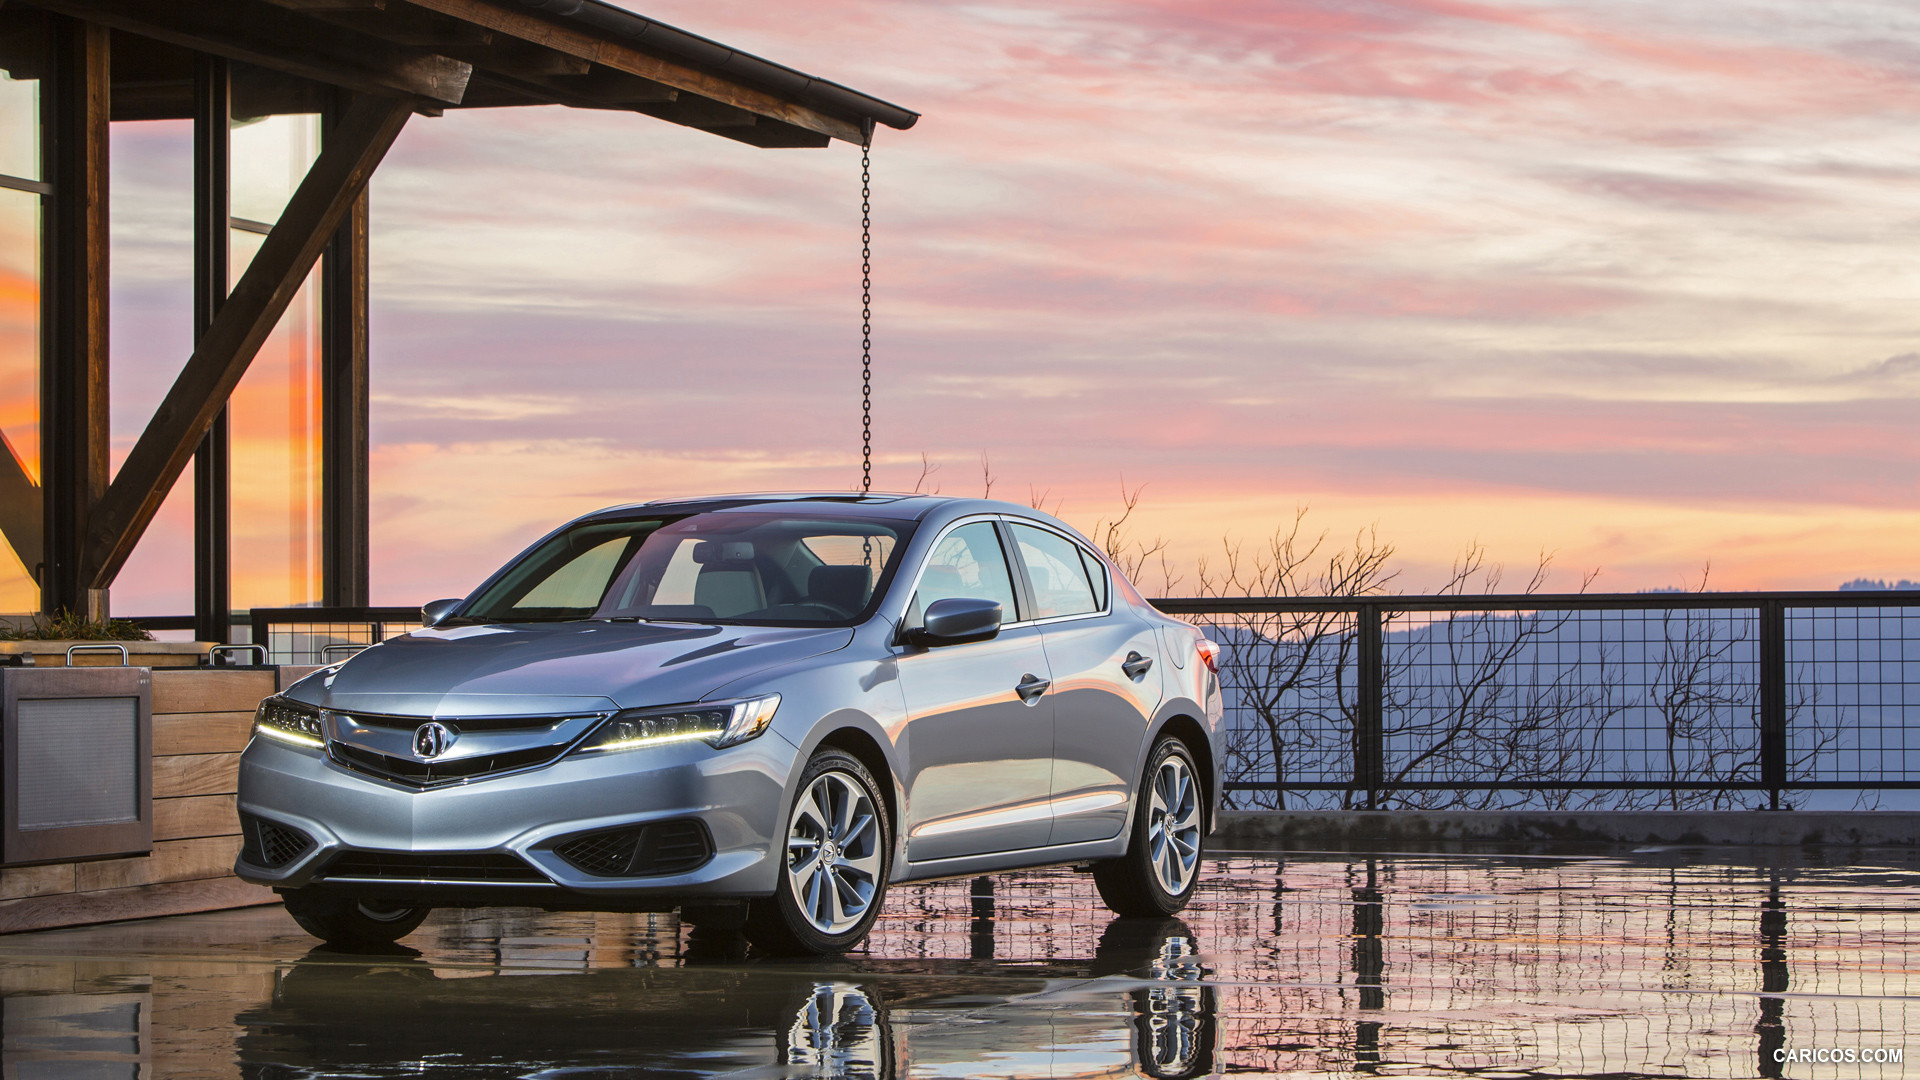Fog Lamp & Scope: (556, 818, 716, 876)
Front: (233, 634, 839, 887)
Front Bumper: (236, 798, 787, 891)
Grill: (320, 713, 585, 789)
Headlight: (570, 695, 782, 753)
